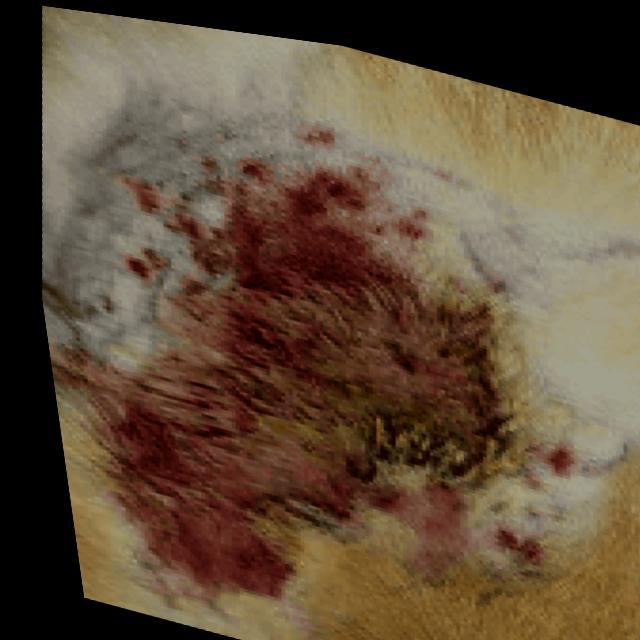viem da do vi khuan (cho): (28, 61, 640, 640)
